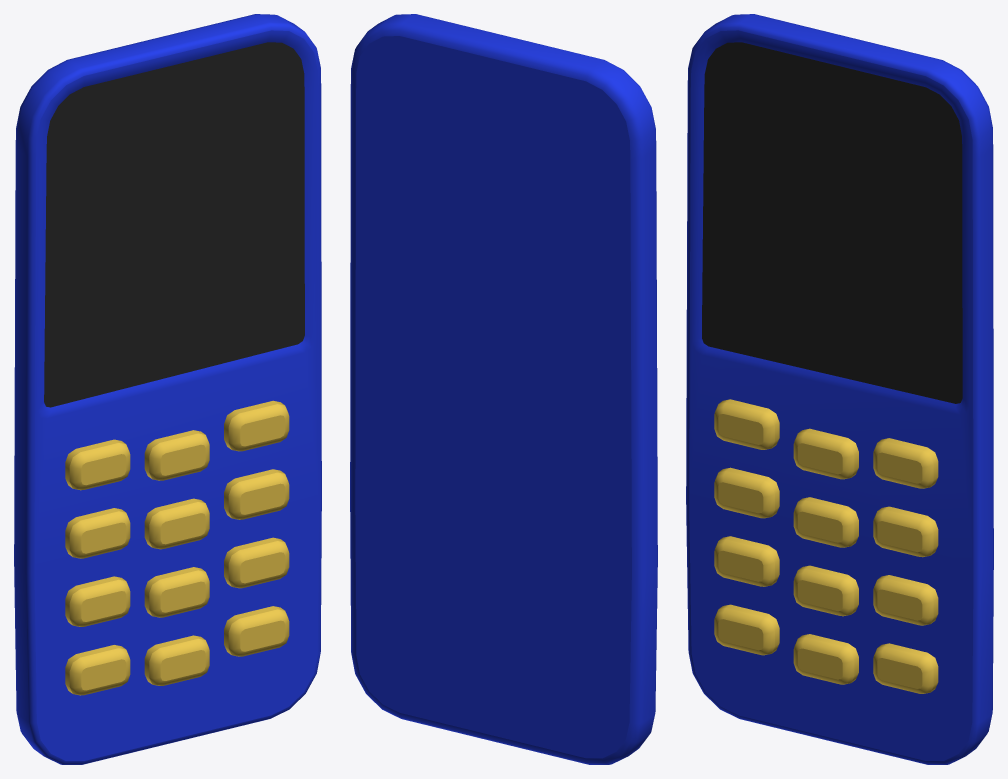
File: Phone-3.fbx
3 views of the same model, side by side, from view 1: azimuth 30°, elevation 25°; view 2: azimuth 150°, elevation 25°; view 3: azimuth 330°, elevation 25° (orthographic).
Parts seen in each view (by area): view 1: Phone-3; view 2: Phone-3; view 3: Phone-3.
Boxes of the visible parts, box(x1,y1,x2,y2) form: Phone-3: box(14, 14, 321, 764); Phone-3: box(350, 14, 657, 764); Phone-3: box(686, 14, 993, 764).
Bounding box in the file's own units: 0.691 × 1.56 × 0.1129.
